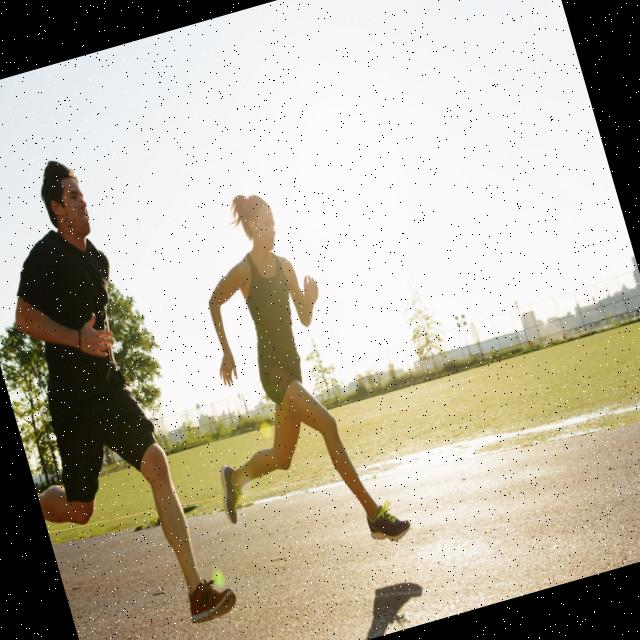Person: (0, 141, 241, 640), (142, 172, 412, 582)
